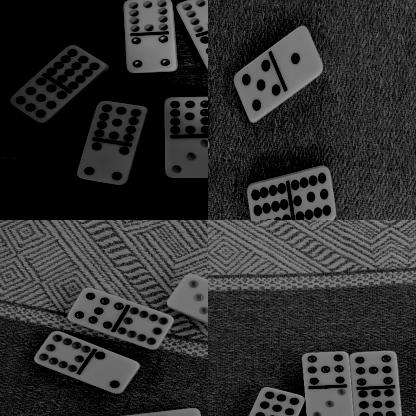pip-1: (275, 25, 323, 88)
pip-10: (115, 306, 173, 350), (34, 331, 91, 373), (121, 0, 173, 33), (176, 0, 208, 32)
pip-11: (289, 166, 335, 220), (92, 100, 147, 141), (163, 95, 208, 136)
pip-12: (46, 44, 107, 88), (246, 177, 291, 220)
pip-2: (81, 350, 140, 394), (153, 407, 205, 416)
pip-3: (164, 135, 208, 179), (166, 272, 208, 314), (302, 387, 352, 416)
pip-4: (76, 140, 130, 184), (125, 34, 176, 72)
pip-5: (232, 57, 280, 123)
pip-7: (67, 287, 124, 329), (350, 350, 396, 388), (300, 350, 348, 385)
pip-9: (9, 77, 66, 123), (251, 385, 303, 416), (352, 387, 401, 416)
